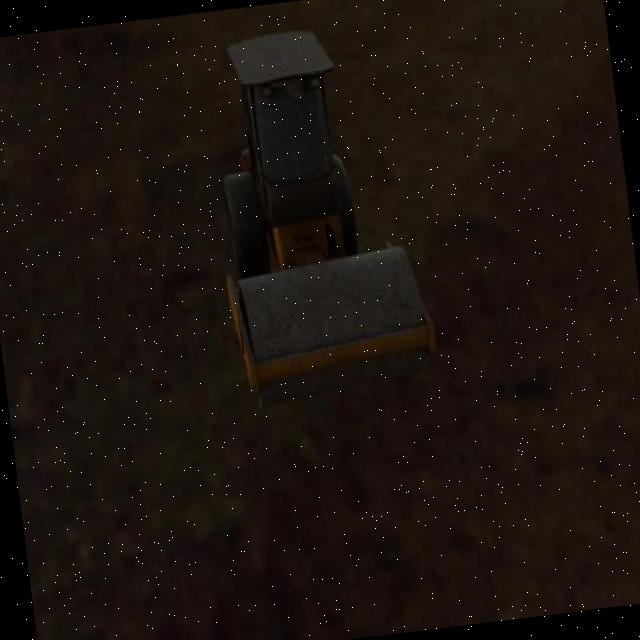Roller: (196, 16, 442, 410)
